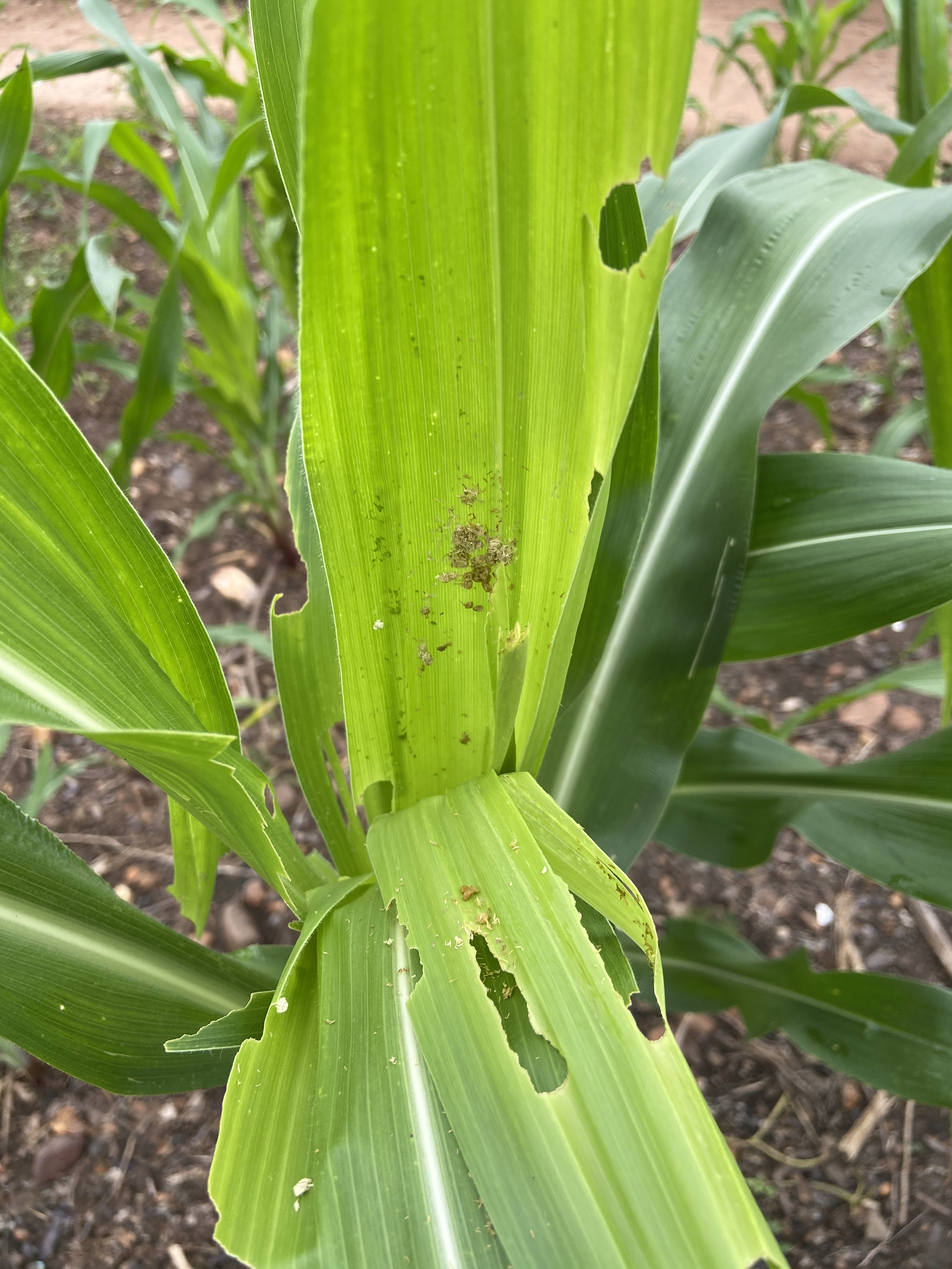early_to_moderate: (334, 401, 572, 774)
severe: (168, 841, 455, 1269), (204, 452, 373, 714), (455, 922, 623, 1148), (560, 859, 699, 1073), (539, 138, 693, 307)
